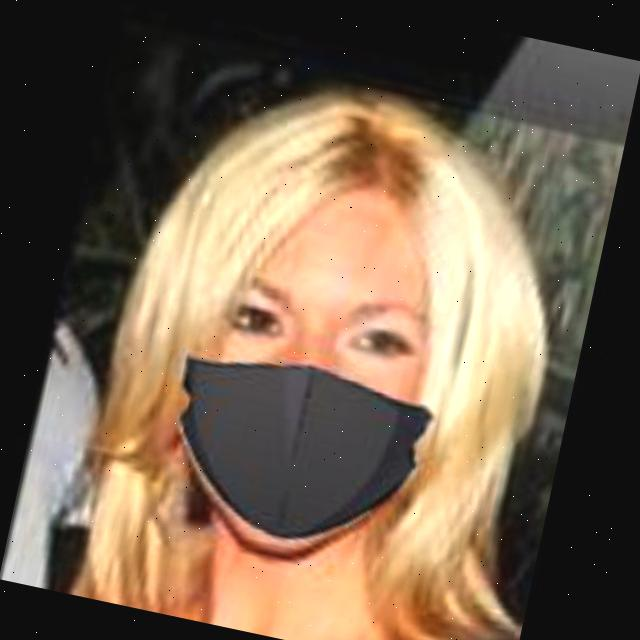suspicion: (74, 81, 556, 640)
